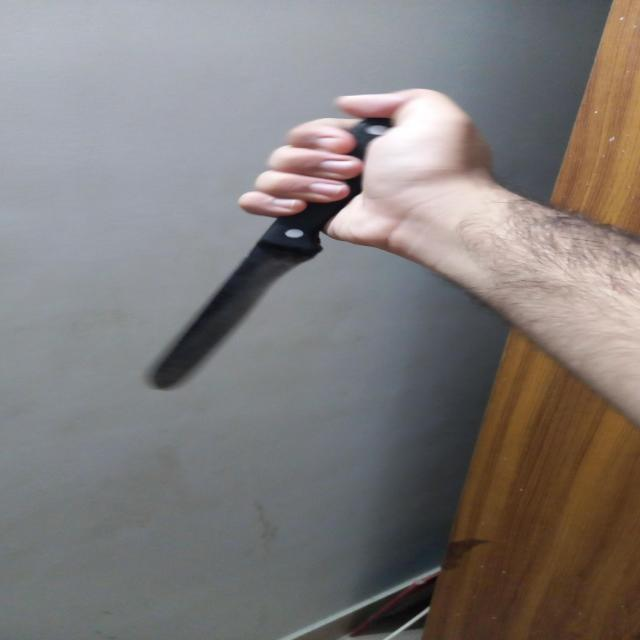knife: (142, 76, 370, 398)
